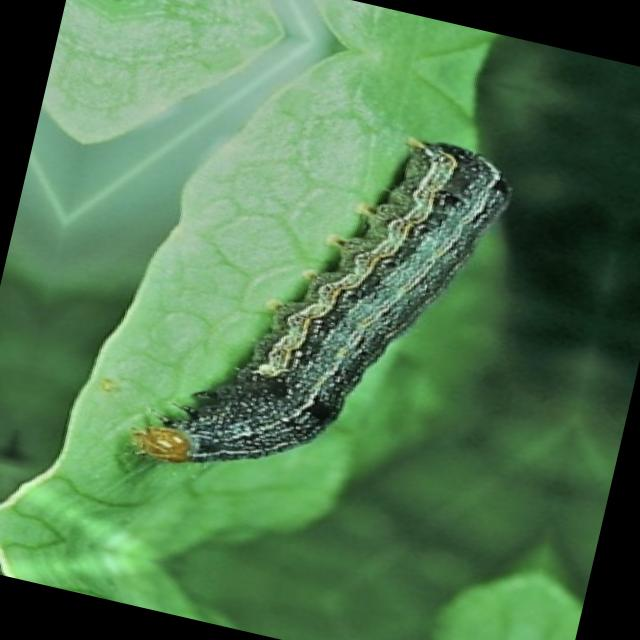Armyworm: (94, 66, 579, 541)
